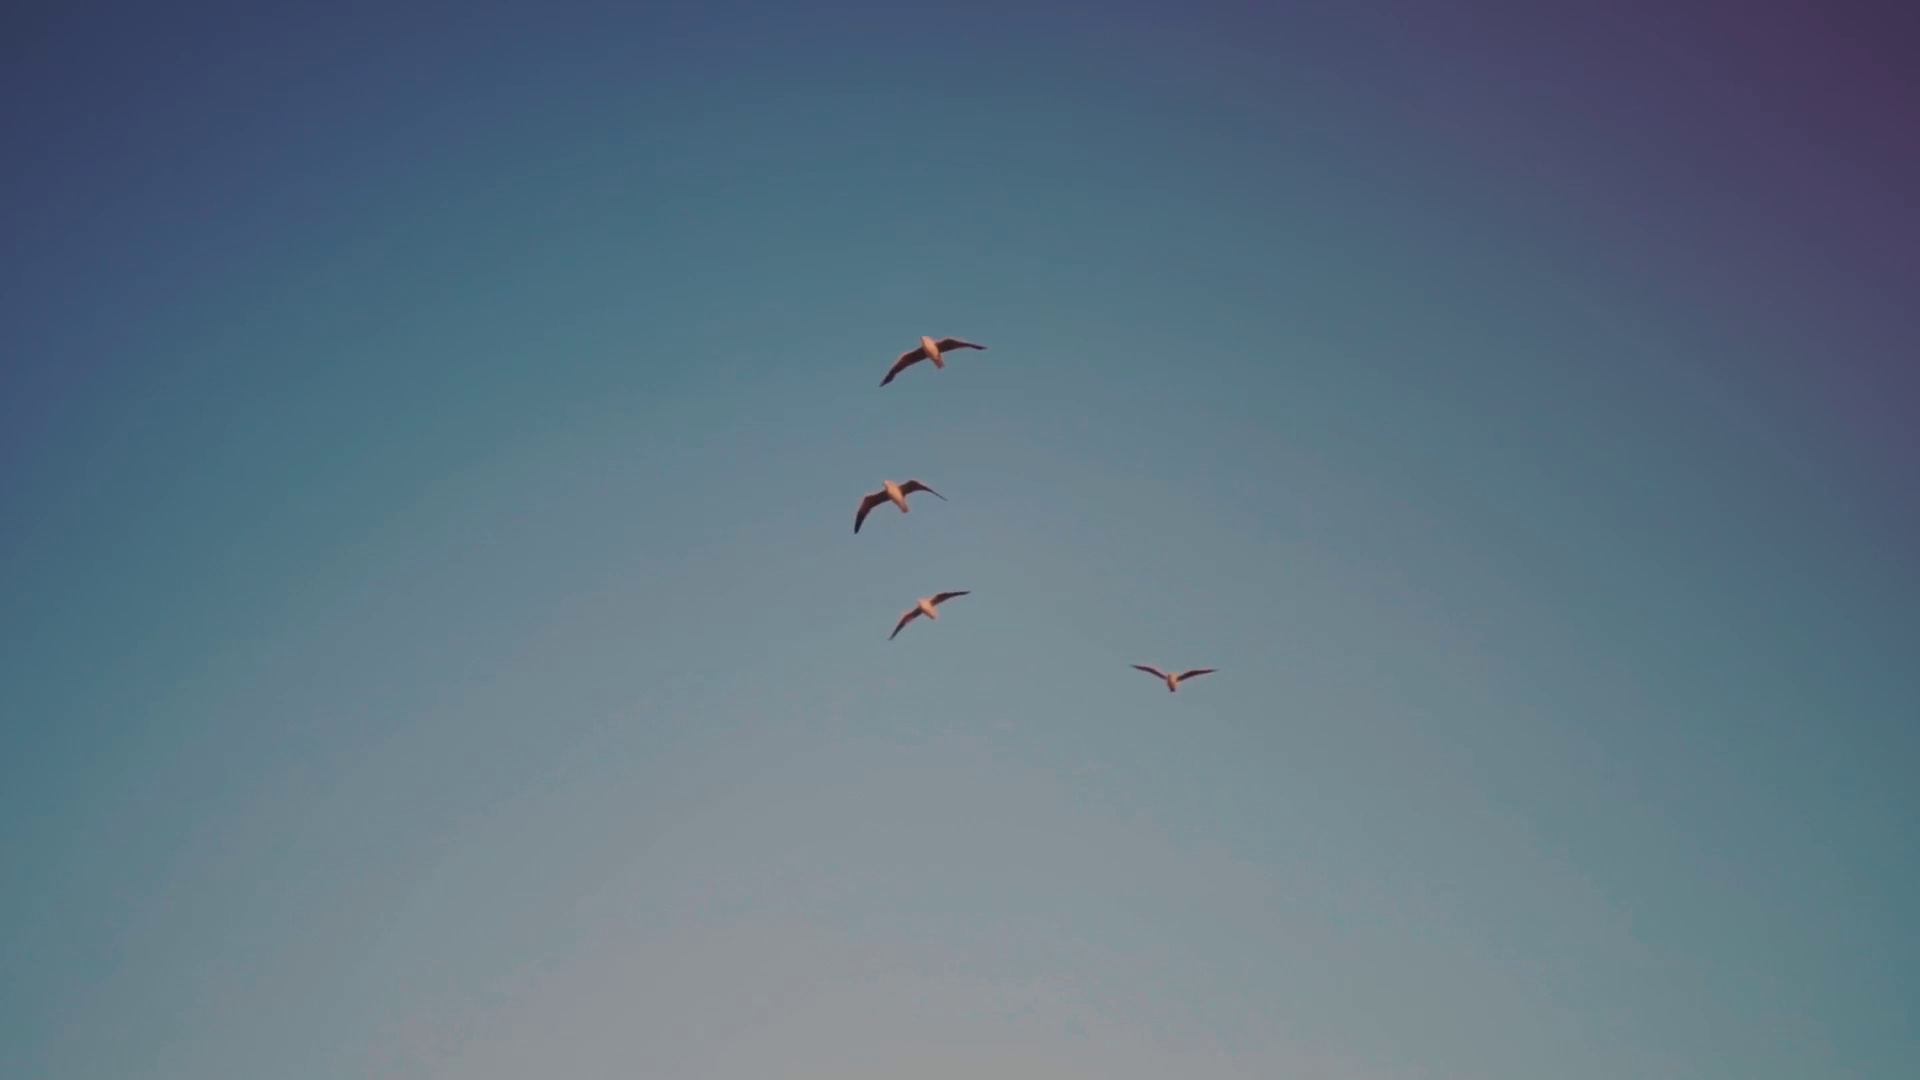bird: (880, 331, 992, 390), (852, 475, 948, 535), (889, 588, 967, 640), (1134, 659, 1215, 694)
